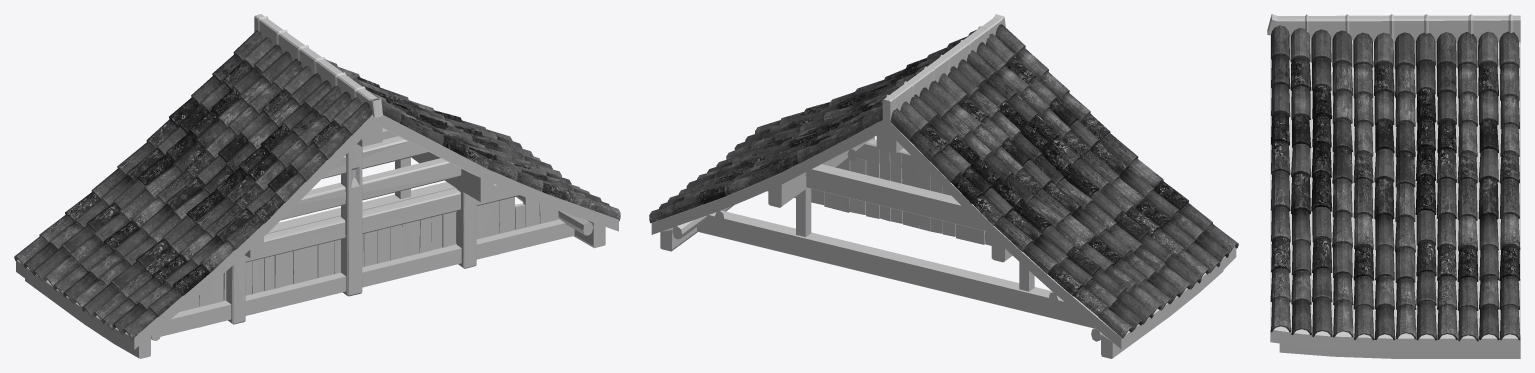
File: WaDing_4.fbx
3 renders of one model, left to right at view 1: azimuth 30°, elevation 25°; view 2: azimuth 150°, elevation 25°; view 3: azimuth 270°, elevation 25°, orthographic. The views are drawn at different scales.
Parts seen in each view (by area): view 1: 3D_WaDing4.mo; view 2: 3D_WaDing4.mo; view 3: 3D_WaDing4.mo.
Boxes of the visible parts, x1,y1,x2,y2 form: 3D_WaDing4.mo: (14, 14, 620, 358); 3D_WaDing4.mo: (649, 14, 1238, 358); 3D_WaDing4.mo: (1267, 14, 1520, 358).
Size of the model in its own units: 788 by 323 by 330.
